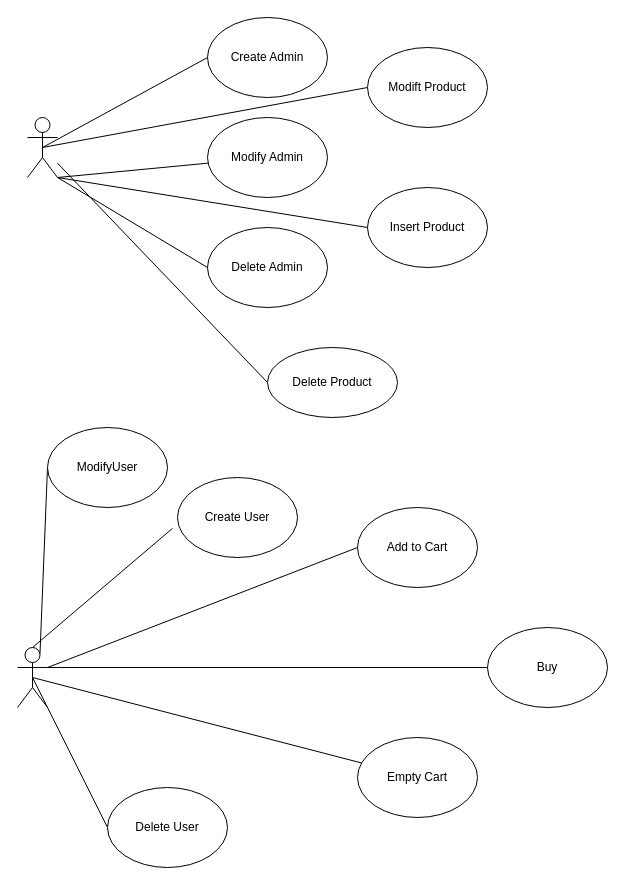
Some shapes in this 625 by 885 pixel diagram are drawn without their labels. The centre of each missing label's shape, as x and y in pixels:
"Admin" belongs at (x=42, y=147).
"User" belongs at (x=32, y=677).
